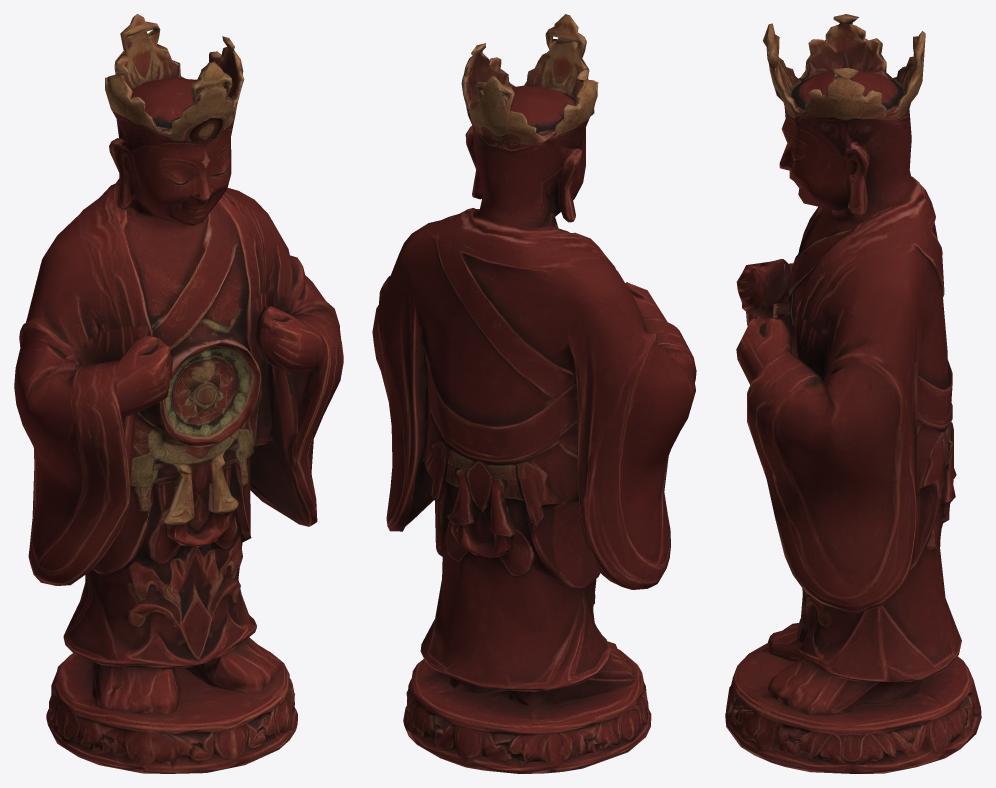
The model's file is khai-tam-la-han.glb.
3 views of the same model, side by side, from view 1: azimuth 30°, elevation 25°; view 2: azimuth 150°, elevation 25°; view 3: azimuth 270°, elevation 25° (orthographic). The views are drawn at different scales.
Size of the model in its own units: 0.8984 by 1.9 by 0.6309.
1 material, 1 textured.
